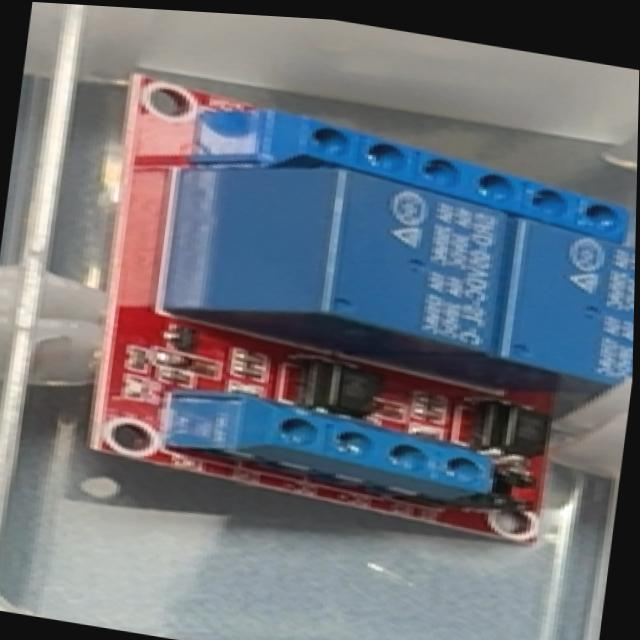Relay: (68, 62, 639, 569)
